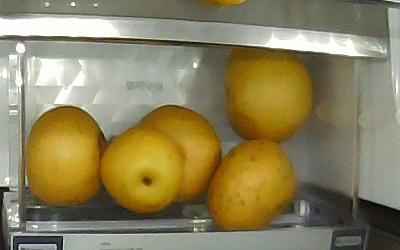pear: (129, 104, 222, 204), (23, 106, 107, 209), (225, 48, 314, 144), (208, 139, 298, 233), (99, 127, 185, 216)
